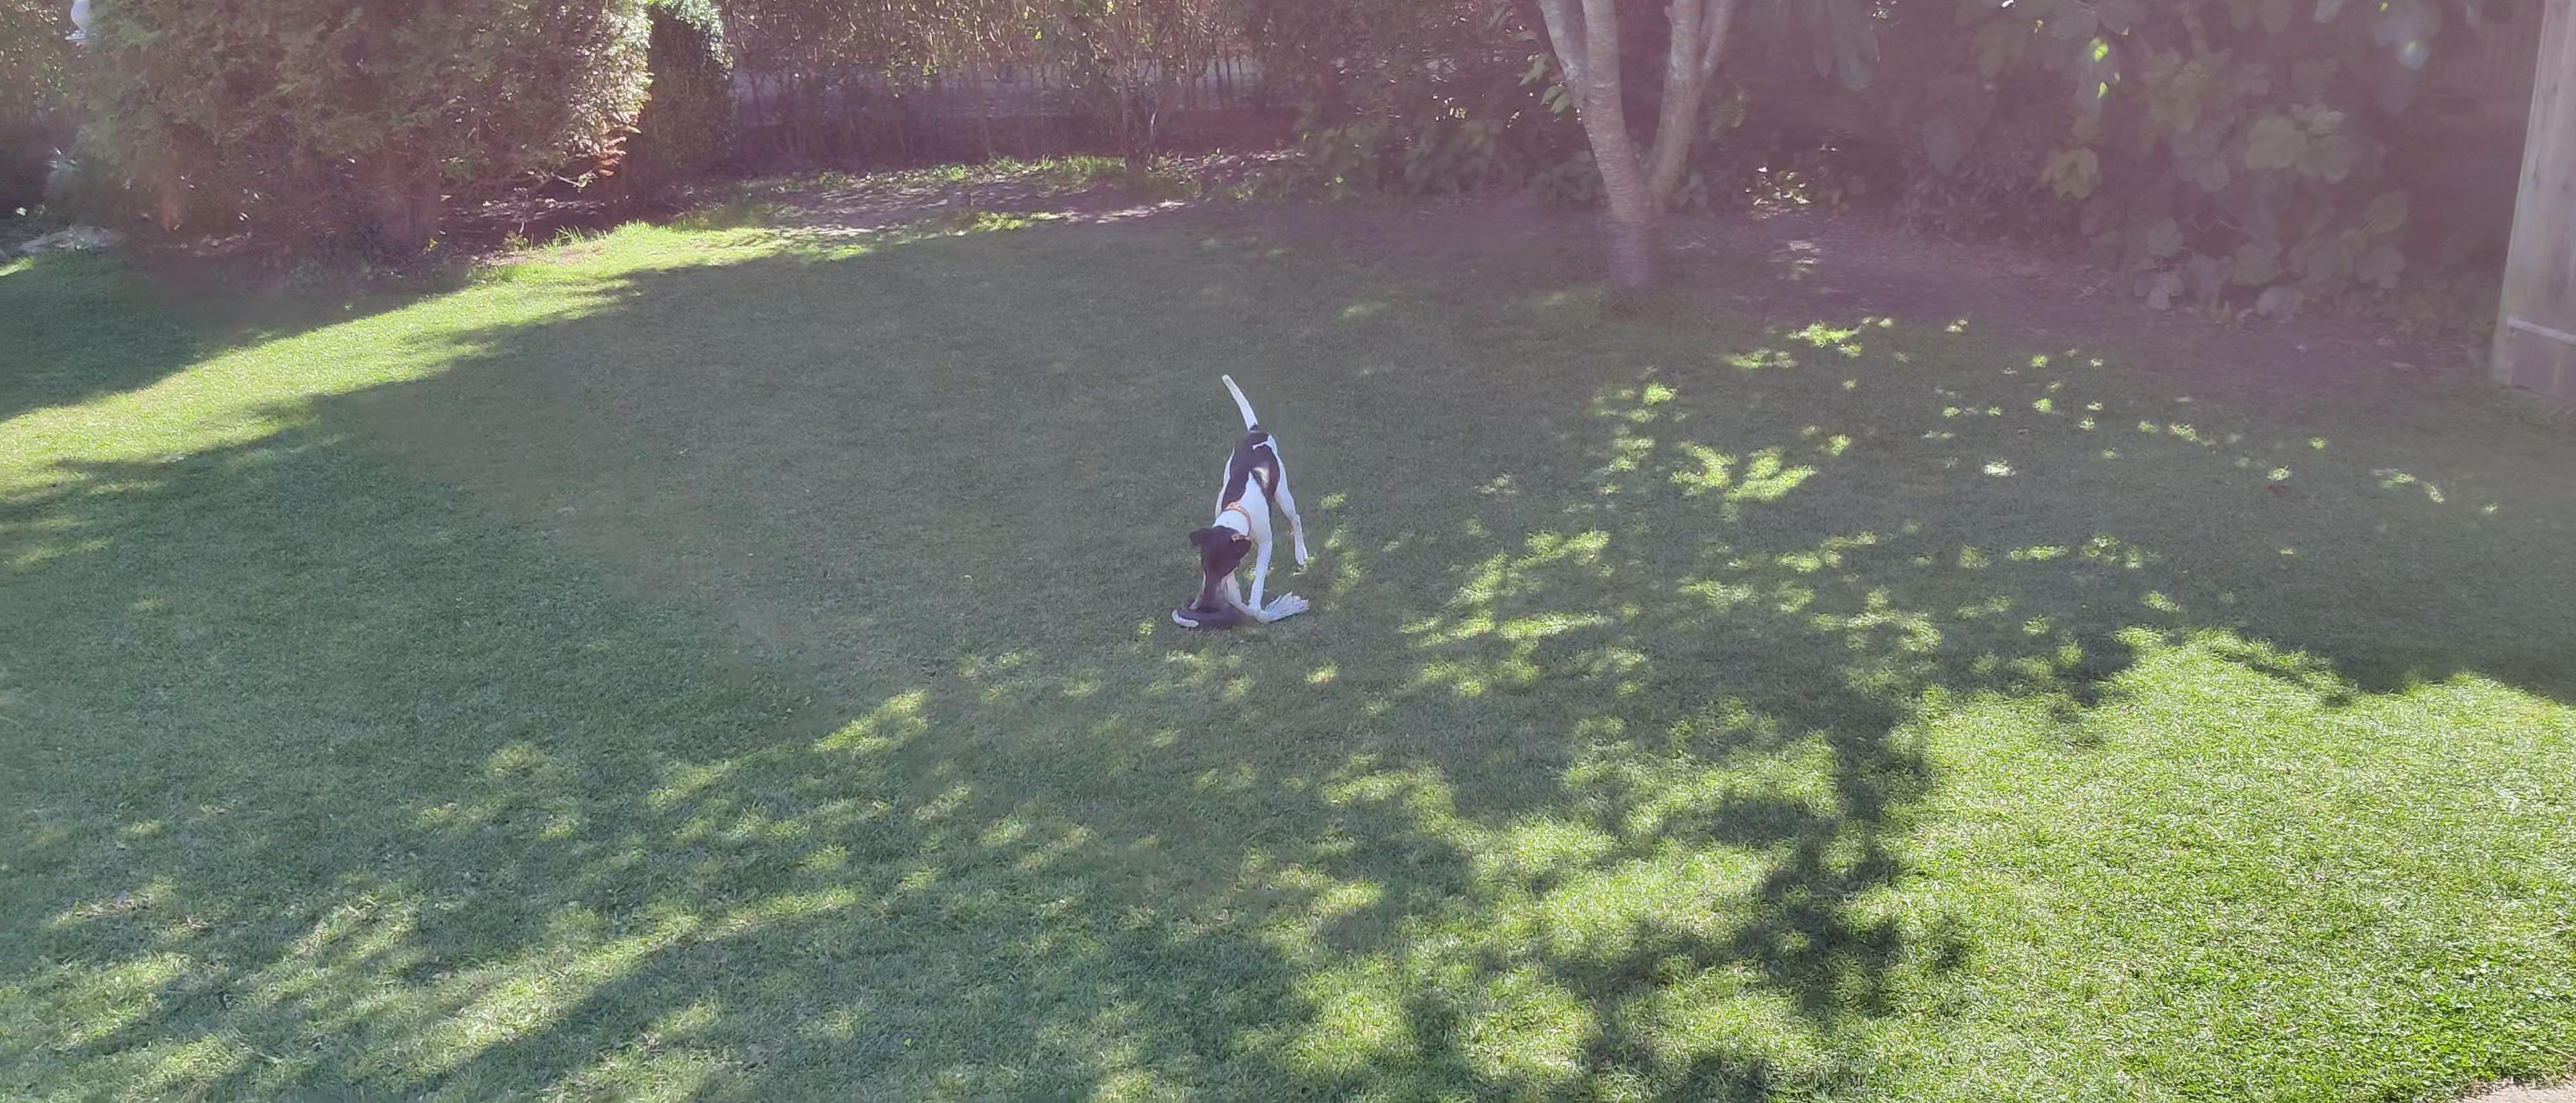Dog: (1186, 370, 1311, 616)
